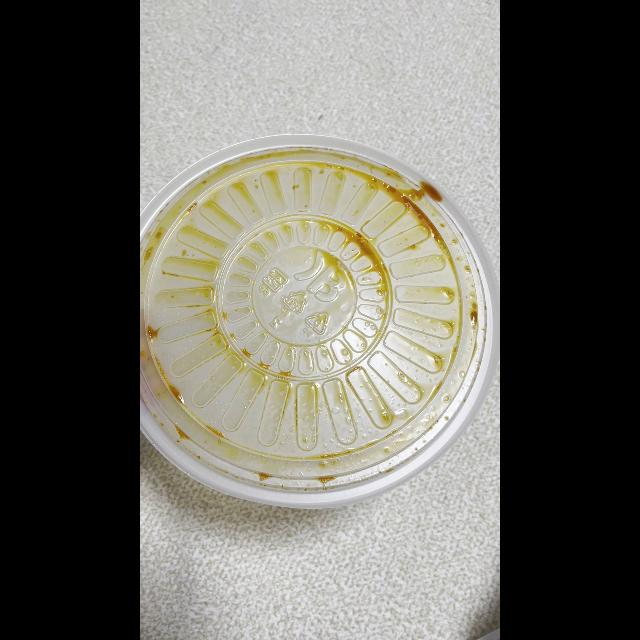dirty: (140, 134, 492, 493)
